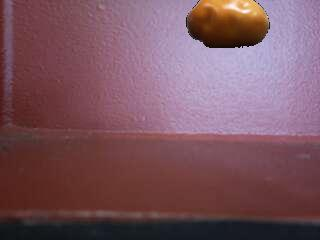Potato: (186, 1, 270, 50)
